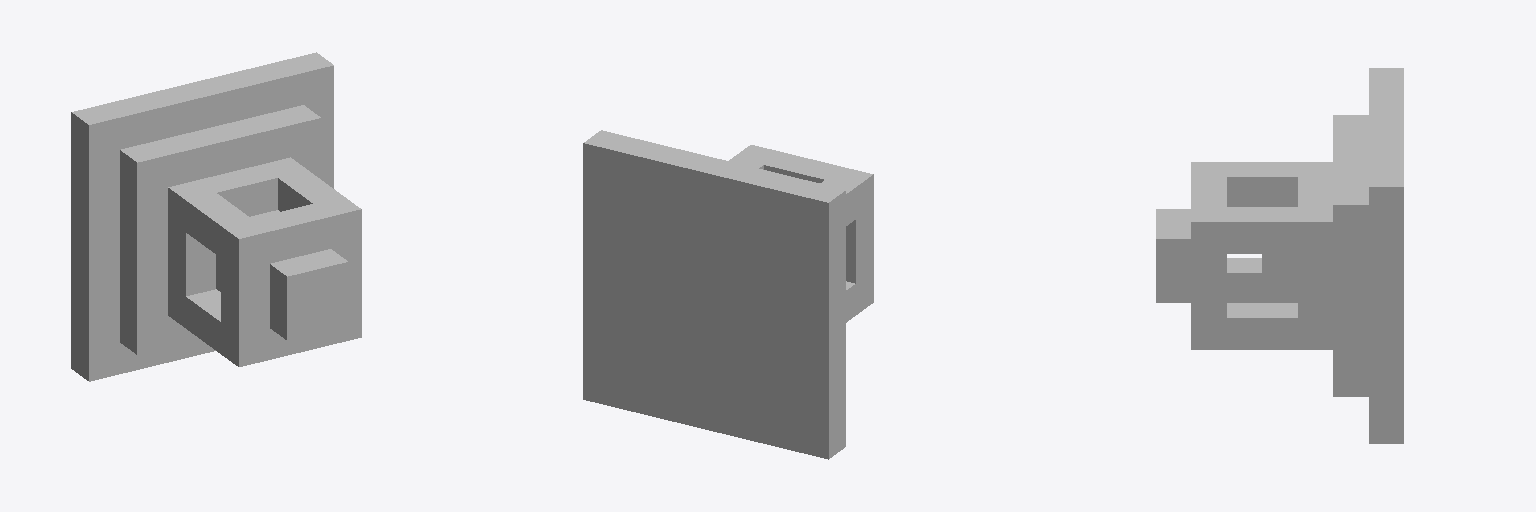
Rendered from bcagelid.obj.
3 views of the same model, side by side, from view 1: azimuth 30°, elevation 25°; view 2: azimuth 150°, elevation 25°; view 3: azimuth 270°, elevation 25° (orthographic).
Bounding box in the file's own units: 8 × 8 × 7.